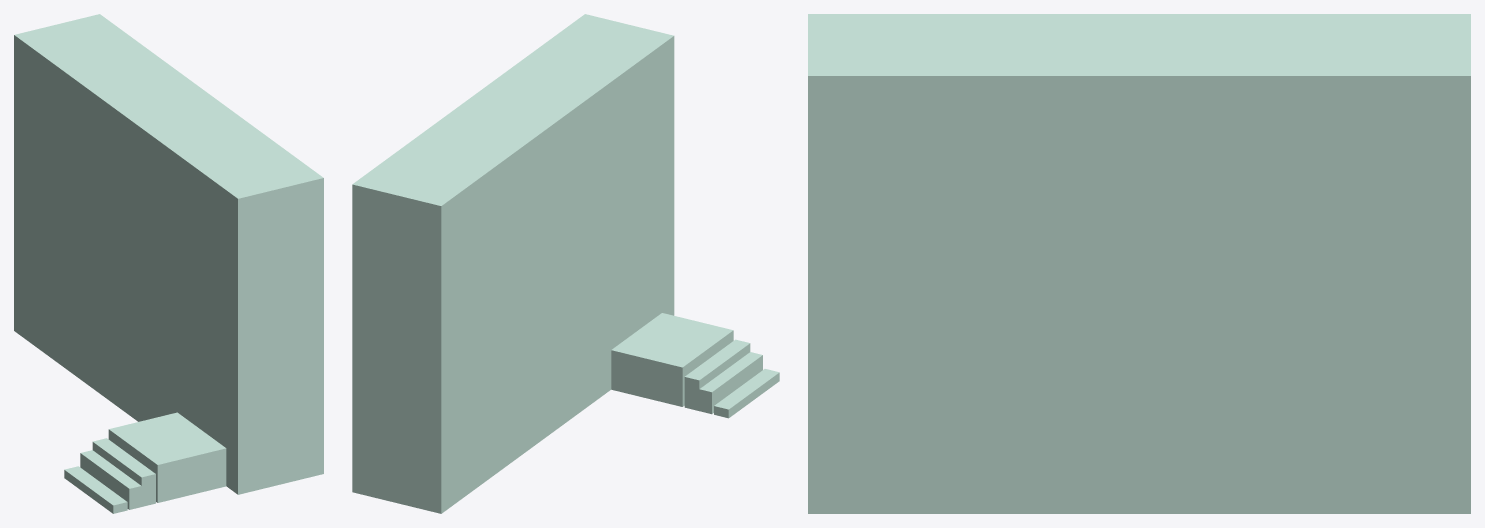
3 renders of one model, left to right at view 1: azimuth 30°, elevation 25°; view 2: azimuth 150°, elevation 25°; view 3: azimuth 270°, elevation 25°, orthographic. The views are drawn at different scales.
Parts seen in each view (by area): view 1: Renderer Node; view 2: Renderer Node; view 3: Renderer Node.
Boxes of the visible parts, x1,y1,x2,y2 form: Renderer Node: (14, 14, 323, 513); Renderer Node: (352, 14, 779, 513); Renderer Node: (808, 14, 1470, 513).
Bounding box in the file's own units: 0.3845 × 0.5469 × 0.75.
